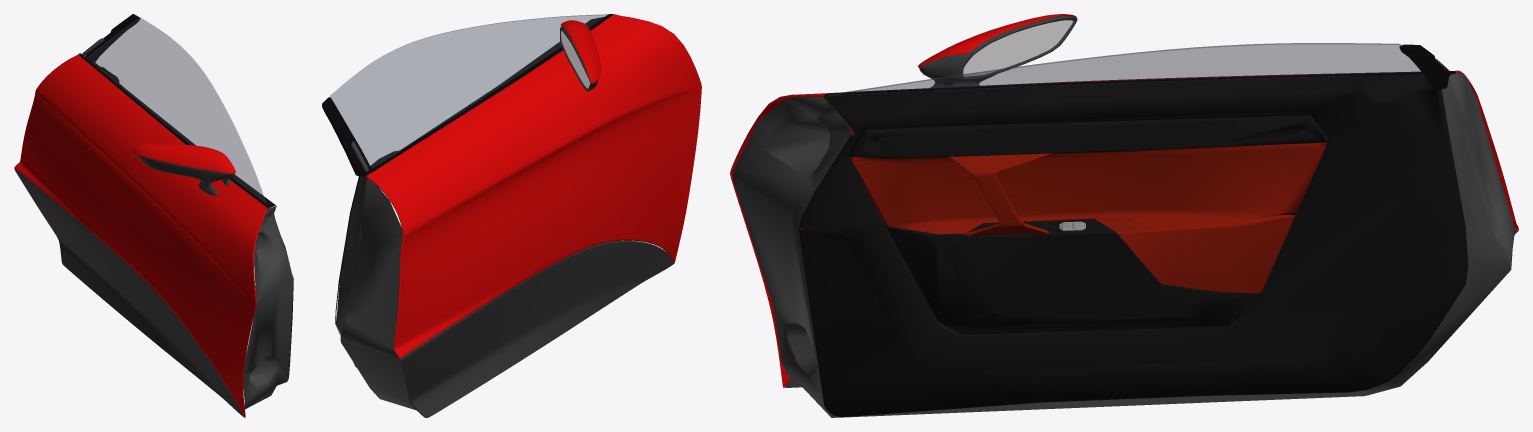
The picture shows the model from 3 angles, left to right: view 1: azimuth 30°, elevation 25°; view 2: azimuth 150°, elevation 25°; view 3: azimuth 270°, elevation 25°; orthographic projection. The views are drawn at different scales.
Parts seen in each view (by area): view 1: BodyDoorRColor1, BodyDoorRWindow, BodyDoorRColor2, InteriorDoorR01, BodyDoorRHandle01; view 2: BodyDoorRColor1, BodyDoorRColor2, BodyDoorRWindow, InteriorDoorR01, BodyDoorRHandle01, BodyDoorRMirror; view 3: InteriorDoorR01, InteriorDoorR03, BodyDoorRWindow, BodyDoorRColor1, BodyDoorRHandle01, BodyDoorRMirror, BodyDoorRColor2.
Boxes of the visible parts, x1,y1,x2,y2 form: BodyDoorRColor1: [14, 54, 267, 417]; BodyDoorRWindow: [86, 17, 266, 204]; BodyDoorRColor2: [14, 38, 243, 416]; InteriorDoorR01: [90, 61, 293, 409]; BodyDoorRHandle01: [78, 14, 267, 207]; BodyDoorRColor1: [366, 14, 701, 358]; BodyDoorRColor2: [351, 26, 673, 417]; BodyDoorRWindow: [330, 14, 607, 168]; InteriorDoorR01: [335, 17, 603, 409]; BodyDoorRHandle01: [322, 14, 613, 176]; BodyDoorRMirror: [561, 30, 590, 88]; InteriorDoorR01: [732, 72, 1515, 417]; InteriorDoorR03: [850, 142, 1327, 293]; BodyDoorRWindow: [828, 43, 1421, 95]; BodyDoorRColor1: [730, 14, 1518, 387]; BodyDoorRHandle01: [824, 44, 1455, 95]; BodyDoorRMirror: [963, 20, 1073, 76]; BodyDoorRColor2: [785, 16, 1518, 387].
Size of the model in its own units: 0.4344 by 0.9594 by 1.67.
9 materials, 1 textured.
